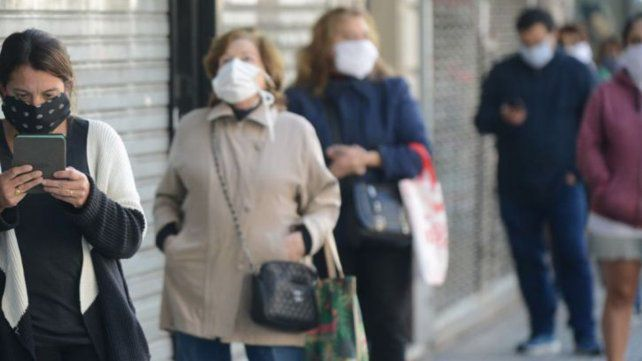barbijo: (204, 57, 266, 101)
